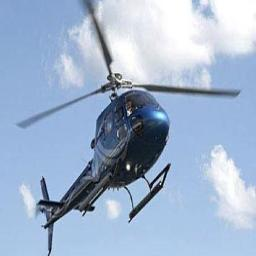helicopter: (17, 2, 242, 256)
